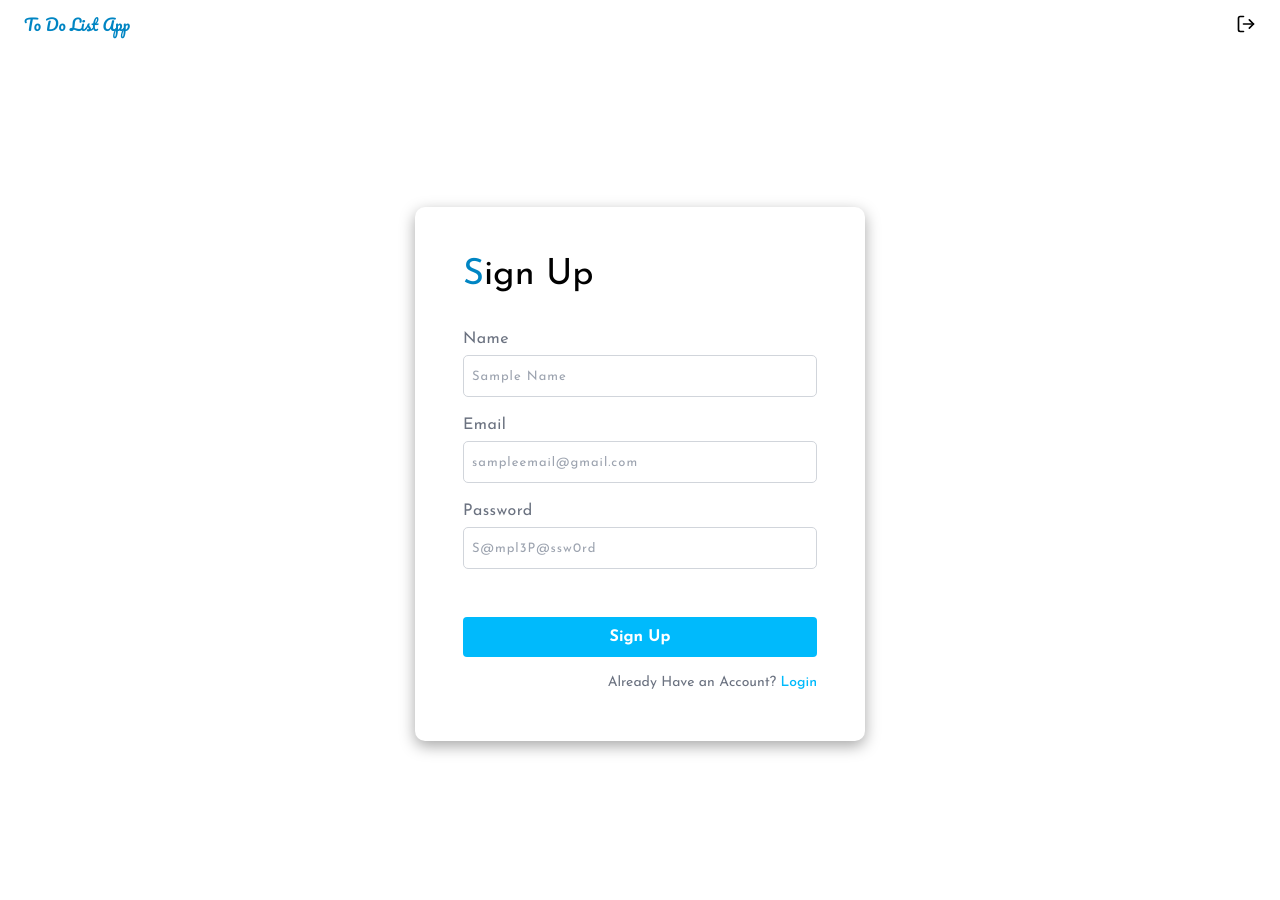
it: Register View › display error on empty email
Type "testuser" into the field labelled "Name".
click(640, 376); type("testuser")  # box left=463, top=355, right=817, bottom=397
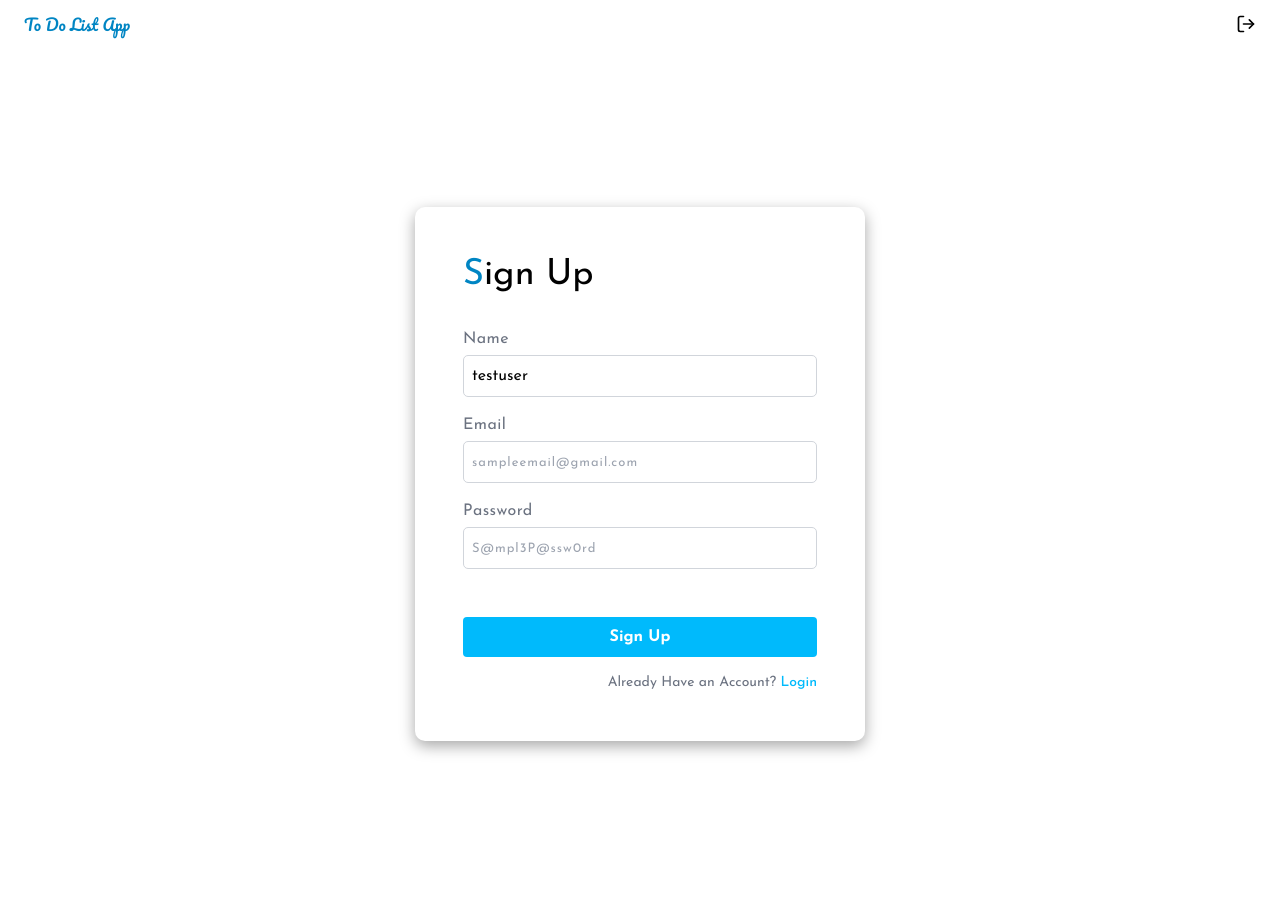
Click the button "Sign Up".
click(640, 637)  # box left=463, top=617, right=817, bottom=657
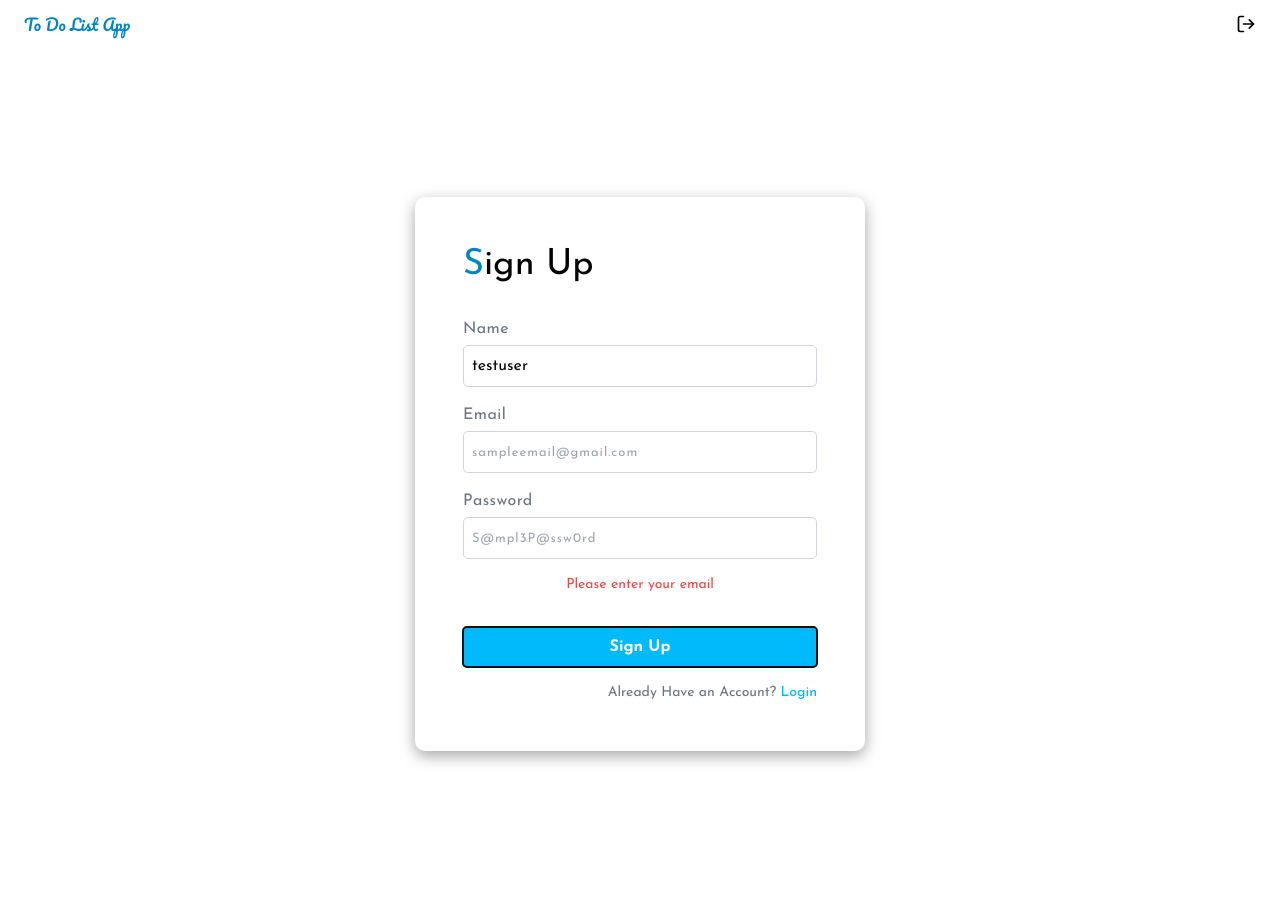
Expected: the text with test id "error-message" reads "Please enter your email", left=566, top=577, right=714, bottom=592
